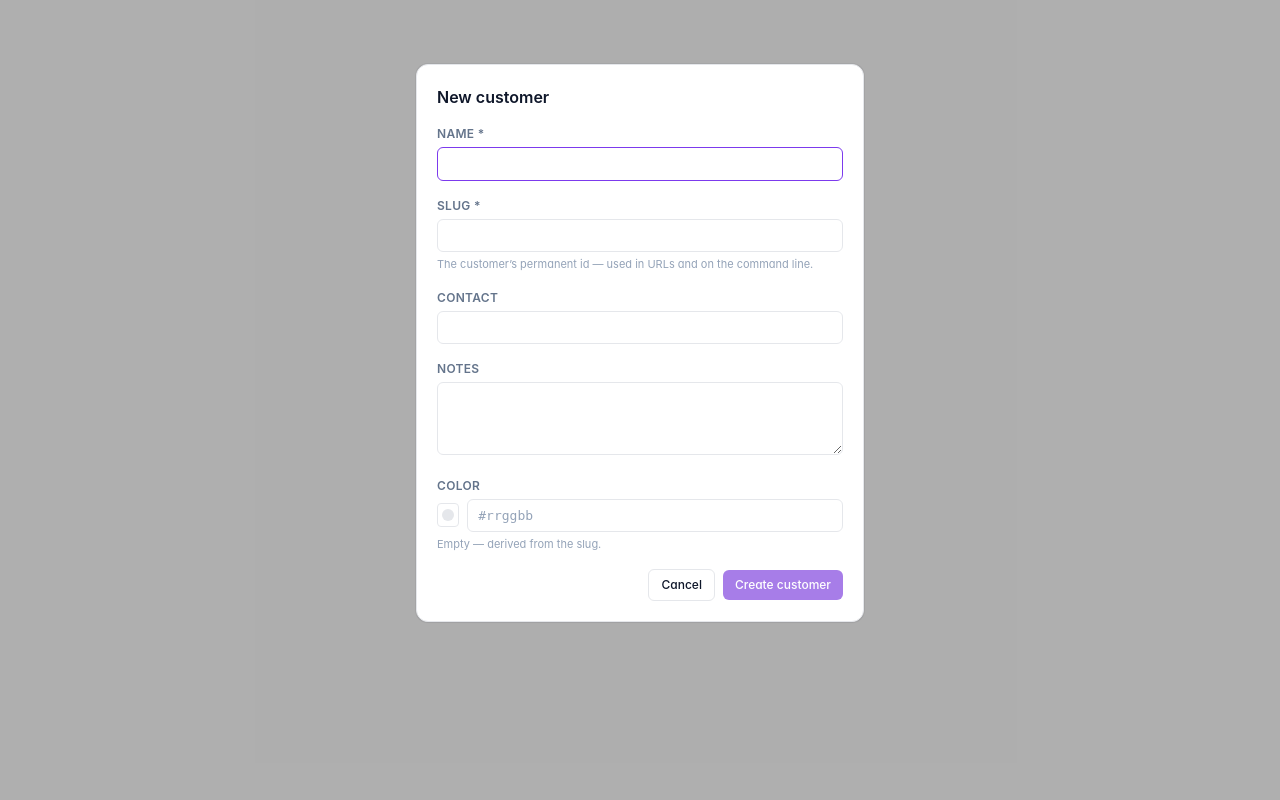
Test: CustomerFormDialog › shows a 409 inline on the slug
Type "Acme" into the field labelled "Name *" at (640, 164), box [437,147,843,180]
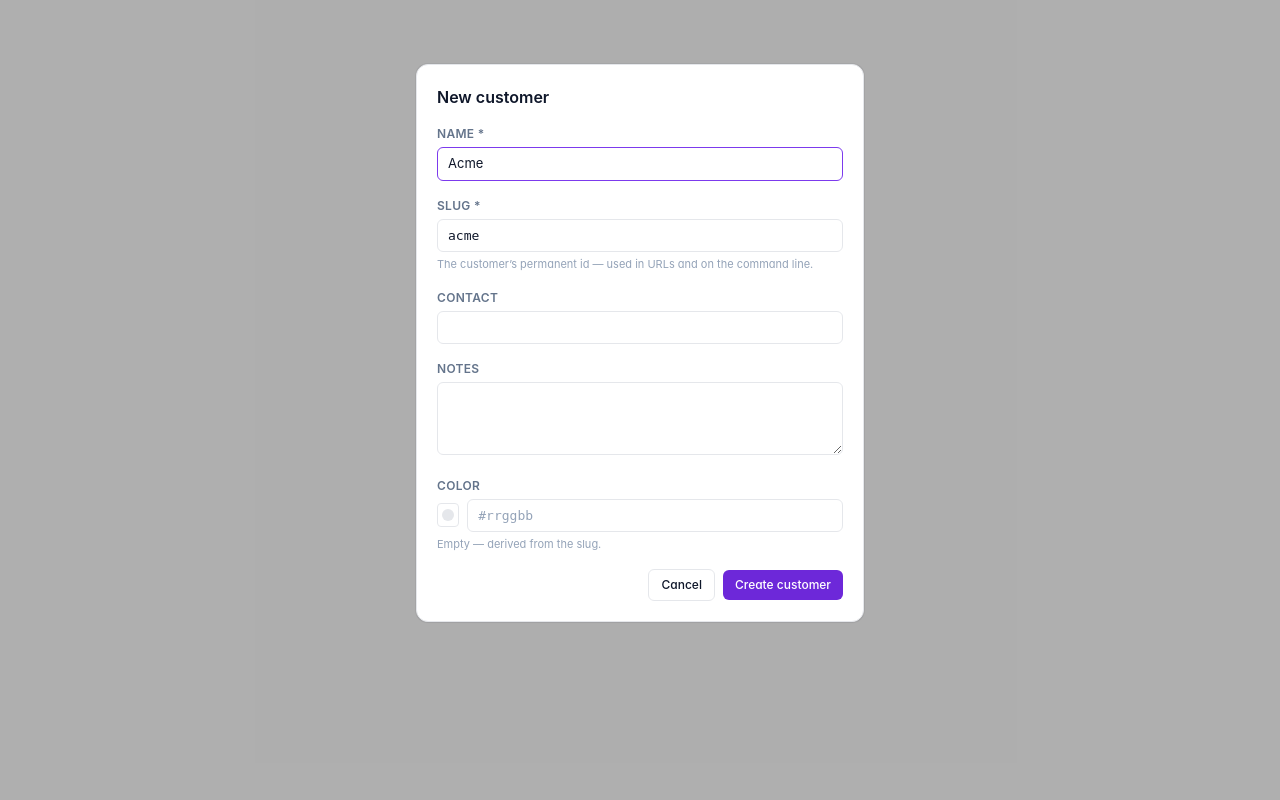
Click the button "Create customer" at (783, 584), box [723,570,843,600]
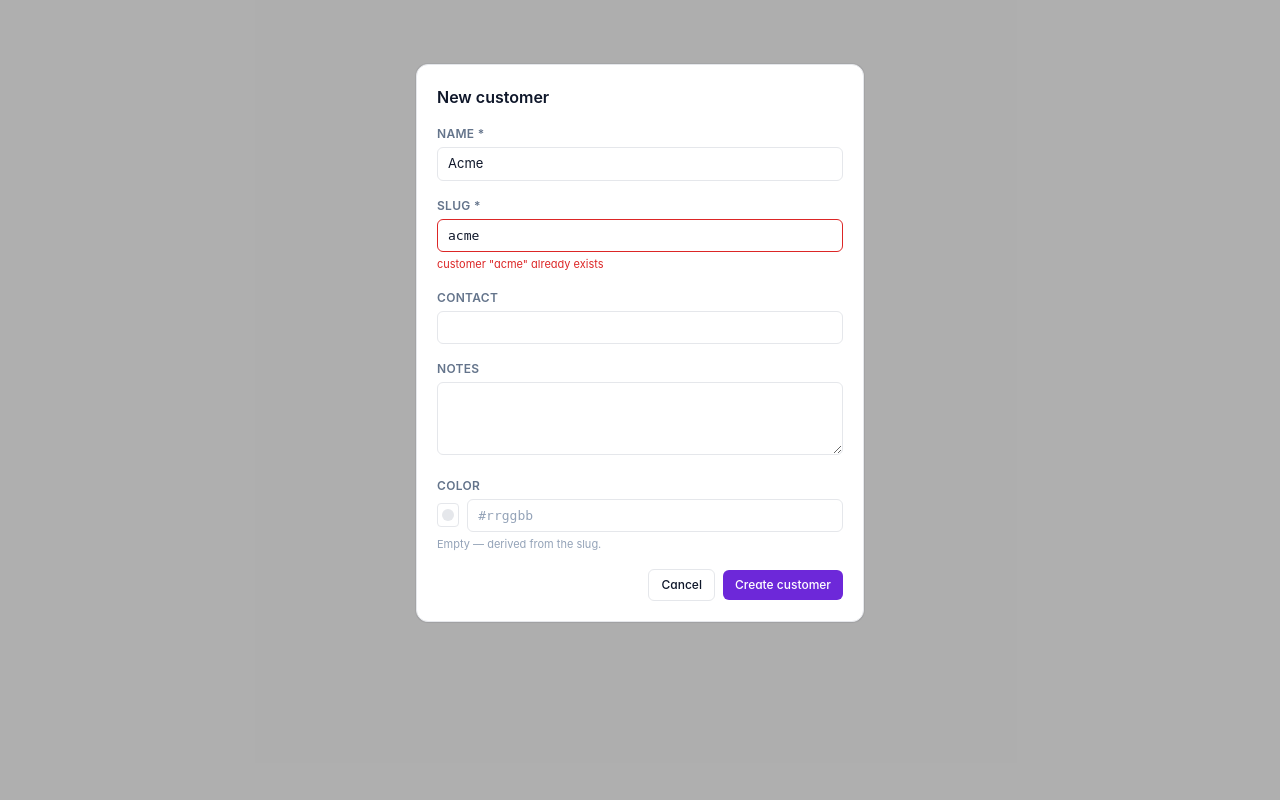
Expected: the text "customer \"acme\" already exists" is shown, [437,257,604,271]
